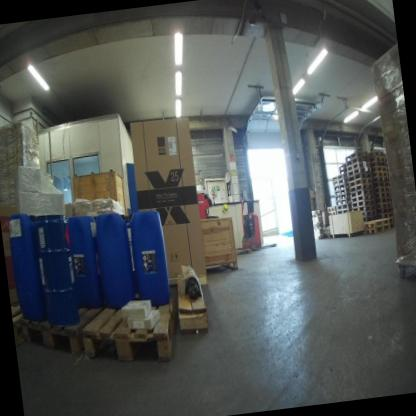pallet: (76, 301, 189, 376), (14, 299, 110, 377), (387, 254, 416, 289), (362, 223, 390, 236), (345, 159, 369, 174), (344, 150, 369, 163), (345, 182, 372, 194), (347, 171, 370, 185), (363, 216, 389, 228), (346, 165, 370, 178), (347, 187, 373, 199), (348, 177, 371, 190), (351, 198, 373, 208), (345, 157, 368, 166), (350, 194, 372, 203), (354, 205, 374, 214), (370, 165, 388, 174), (368, 150, 385, 159), (374, 190, 391, 199), (331, 177, 347, 186), (333, 187, 349, 196), (370, 170, 388, 178), (371, 179, 389, 187), (369, 155, 383, 165), (375, 201, 392, 209), (334, 198, 350, 206), (376, 212, 392, 220), (370, 176, 388, 183), (370, 160, 387, 167), (376, 207, 393, 214), (361, 210, 374, 219), (332, 182, 347, 189), (335, 208, 350, 215), (374, 197, 391, 203), (331, 173, 347, 179), (334, 193, 349, 199), (374, 186, 389, 192), (335, 204, 349, 210), (325, 205, 335, 212), (386, 223, 393, 232), (388, 219, 394, 224)
pallet_truck: (231, 189, 289, 262), (190, 179, 226, 228)
